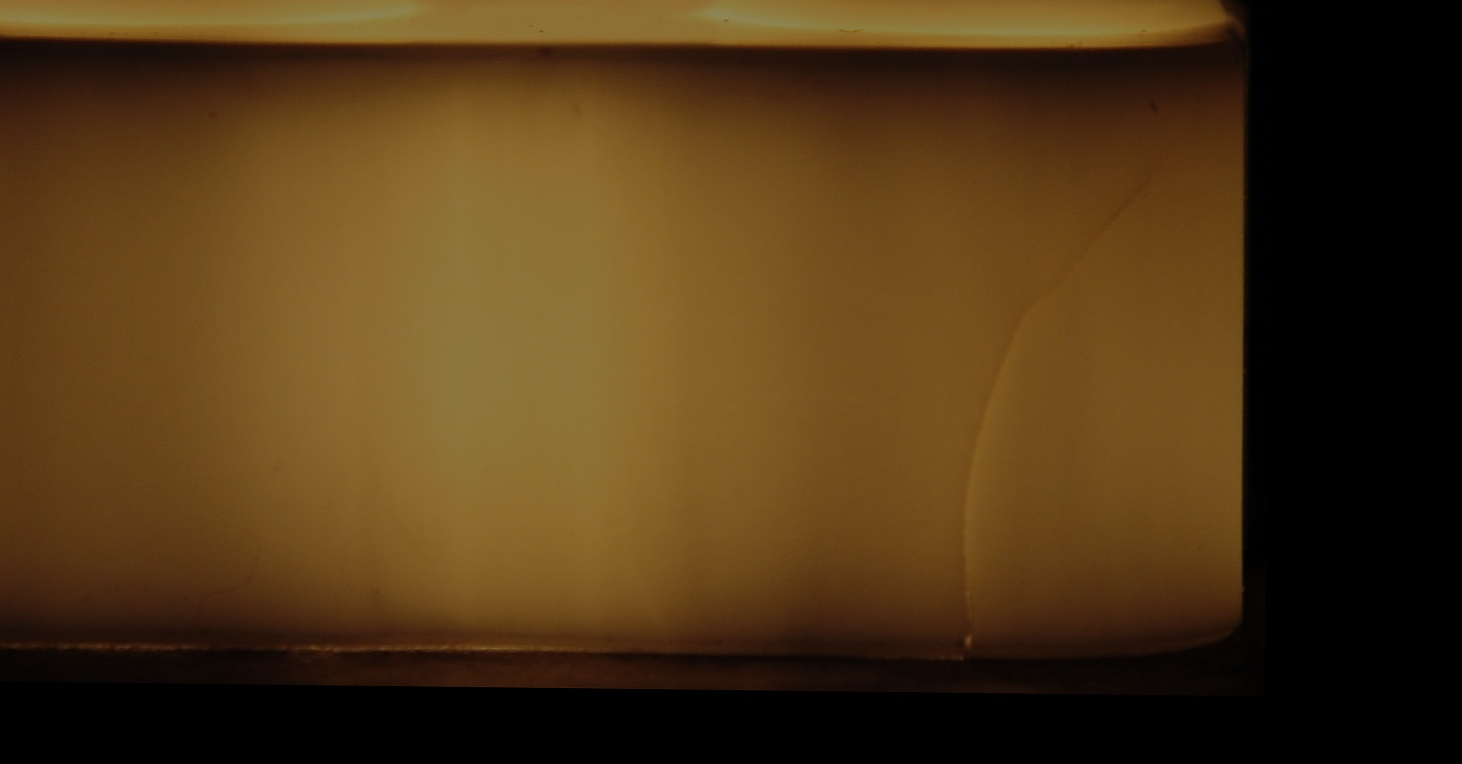flaw: (948, 289, 1003, 663), (1035, 233, 1093, 325), (1004, 246, 1042, 382), (1087, 175, 1141, 268)
